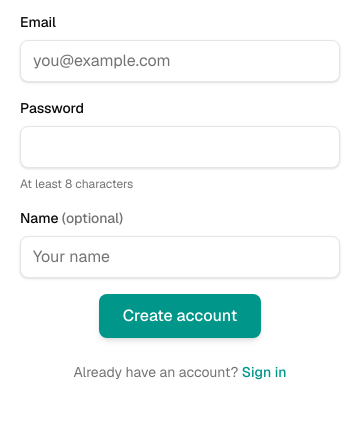
Test case: SignUpForm › shows error on 409 response
Type "a@b.com" into the field labelled "Email". click: (180, 61)
box: [20,40,340,82]
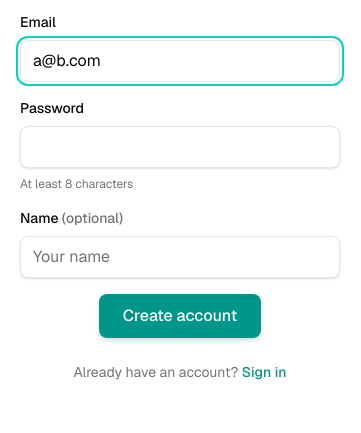
Type "password123" into the password field labelled "Password". click: (180, 147)
box: [20,126,340,168]
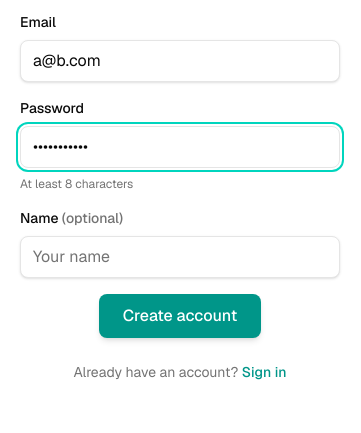
Click the button "Create account". click: (180, 316)
box: [99,294,261,338]
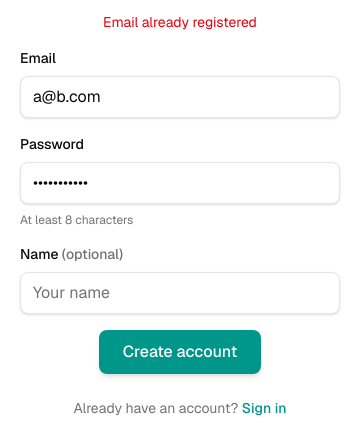
Check: the text "Email already registered" is shown, box [103,12,257,32]
